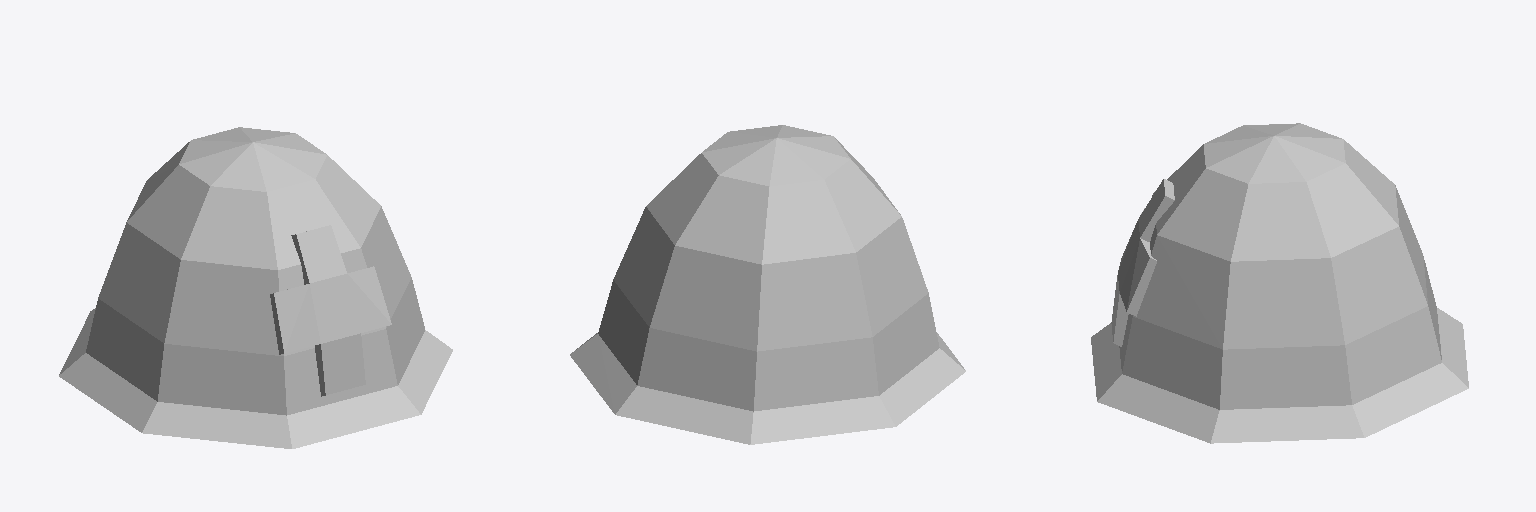
File: Mettaur.obj
3 renders of one model, left to right at view 1: azimuth 30°, elevation 25°; view 2: azimuth 150°, elevation 25°; view 3: azimuth 270°, elevation 25°, orthographic.
Visible parts, largest first — view 1: DrawCall_46, DrawCall_45; view 2: DrawCall_46; view 3: DrawCall_46, DrawCall_45.
Boxes of the visible parts, x1=… form: DrawCall_46: x1=59, y1=127, x2=452, y2=448; DrawCall_45: x1=270, y1=225, x2=391, y2=396; DrawCall_46: x1=570, y1=125, x2=965, y2=444; DrawCall_46: x1=1091, y1=123, x2=1468, y2=443; DrawCall_45: x1=1111, y1=179, x2=1174, y2=346.
Bounding box in the file's own units: 95.37 × 65.73 × 96.04.